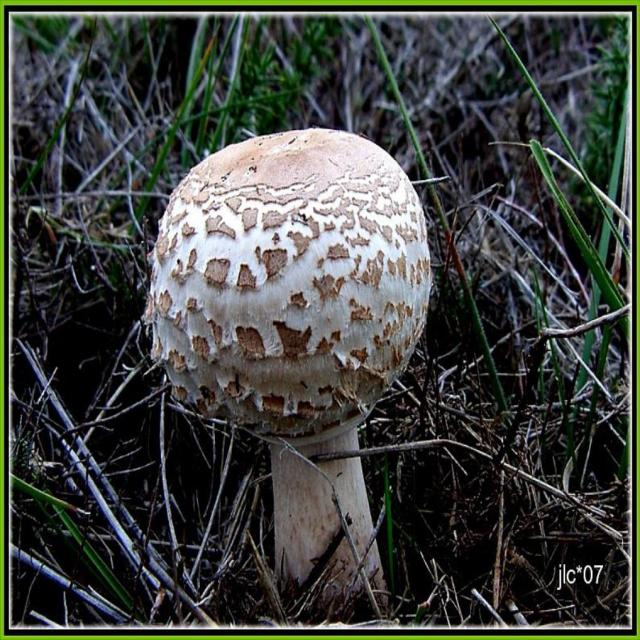Mushroom: (143, 126, 431, 595)
